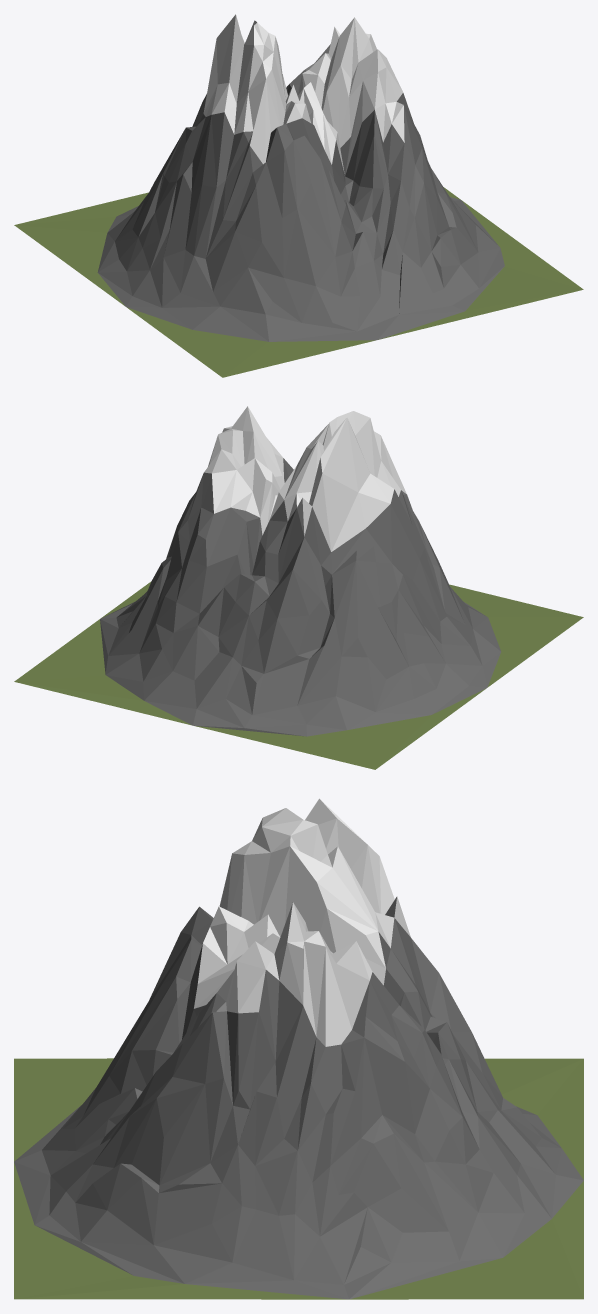
The model's file is Terrain_09.fbx.
3 renders of one model, top to bottom at view 1: azimuth 30°, elevation 25°; view 2: azimuth 150°, elevation 25°; view 3: azimuth 270°, elevation 25°, orthographic. The views are drawn at different scales.
Visible parts, largest first — view 1: Terrain_09; view 2: Terrain_09; view 3: Terrain_09.
Boxes of the visible parts, bbox=[...] form: Terrain_09: bbox=[14, 14, 583, 377]; Terrain_09: bbox=[14, 406, 583, 769]; Terrain_09: bbox=[14, 798, 583, 1299].
Bounding box in the file's own units: 20000 × 13310 × 20000.
